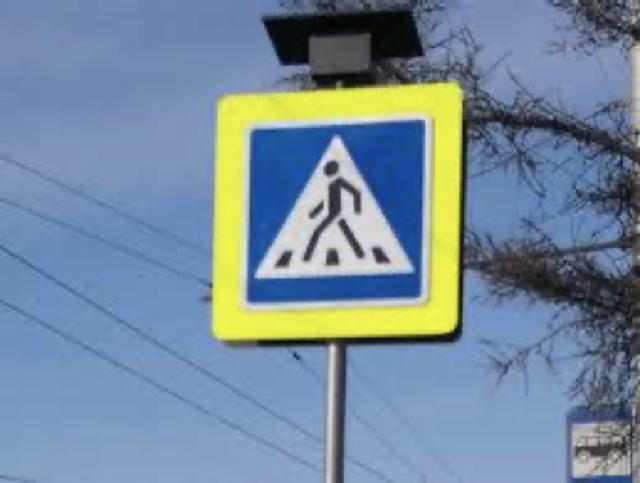crosswalk-sign: (211, 81, 465, 343)
